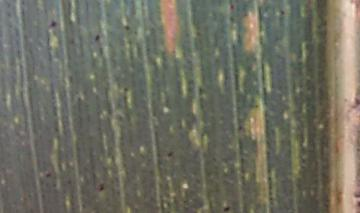tarspot: (49, 20, 58, 29), (93, 33, 102, 42), (167, 150, 176, 159), (98, 183, 106, 193), (227, 4, 238, 11), (237, 125, 245, 133), (123, 25, 133, 31), (221, 207, 233, 212), (279, 9, 287, 16), (45, 171, 52, 178)
